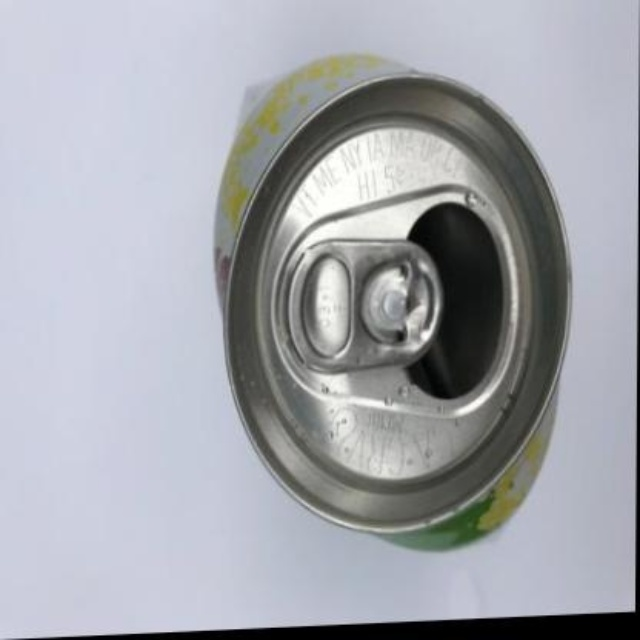trash: (215, 55, 568, 548)
